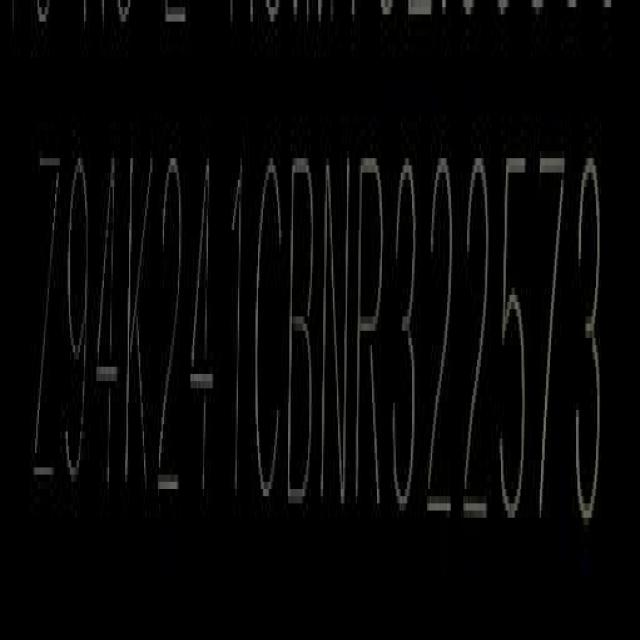1: (229, 152, 245, 501)
2: (460, 153, 490, 533), (428, 150, 456, 530), (126, 154, 154, 511), (158, 148, 185, 512)
3: (394, 149, 424, 519), (575, 152, 602, 532)
4: (190, 154, 219, 511), (96, 152, 122, 502)
5: (500, 148, 530, 532)
7: (538, 133, 566, 530)
9: (64, 151, 91, 507)
B: (287, 146, 318, 508)
C: (254, 149, 282, 509)
N: (323, 150, 350, 513)
R: (355, 150, 387, 514)
Z: (30, 152, 62, 508)
